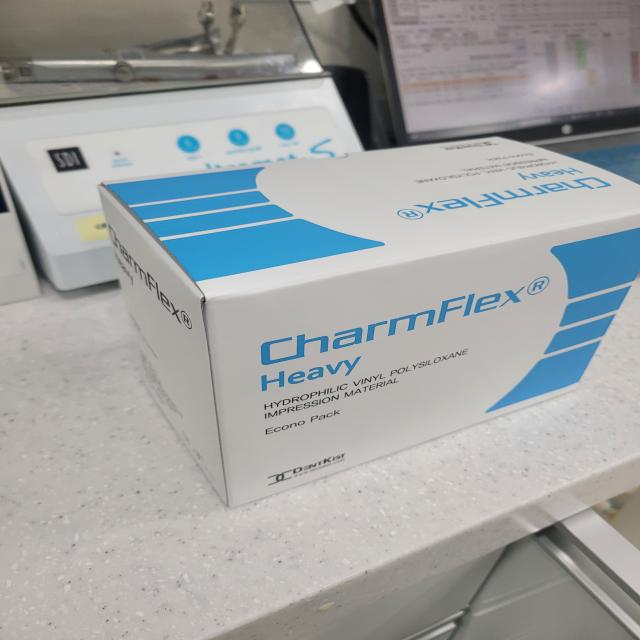impression: (84, 122, 640, 525)
